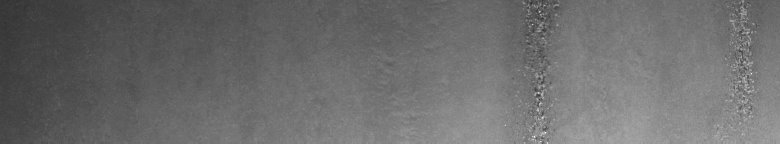hc: (520, 4, 564, 136)
